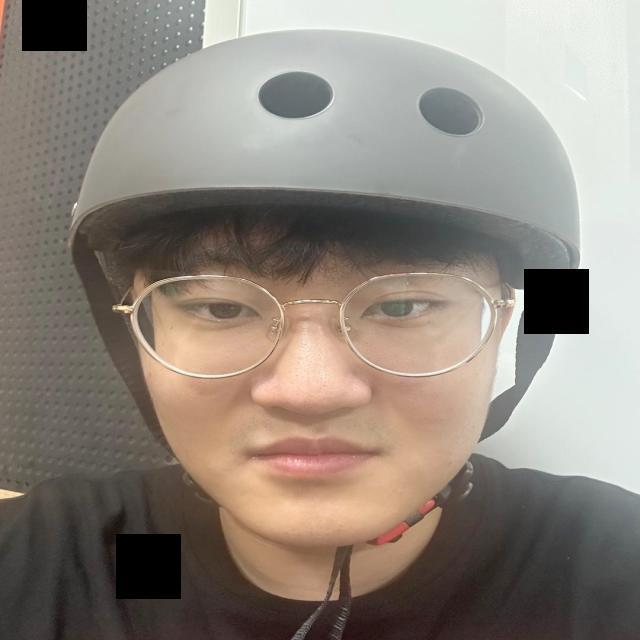helmet: (70, 26, 580, 560)
